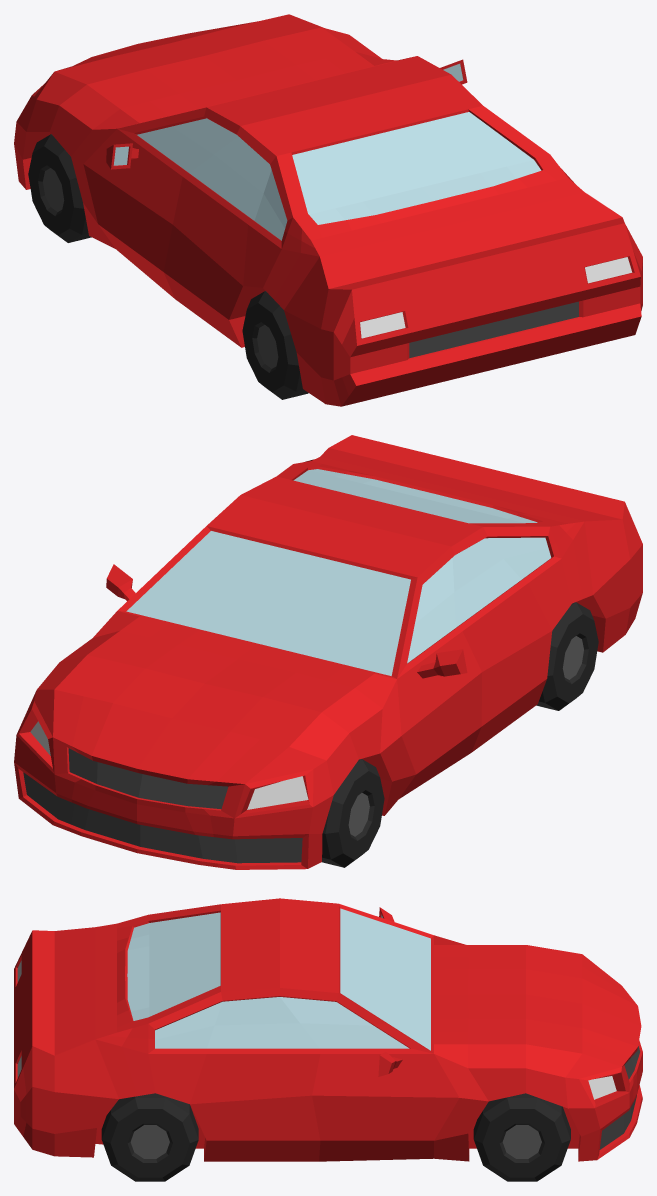
File: Red Car.glb
3 views of the same model, one above another, from view 1: azimuth 30°, elevation 25°; view 2: azimuth 150°, elevation 25°; view 3: azimuth 270°, elevation 25° (orthographic). The views are drawn at different scales.
Visible parts, largest first — view 1: Body_Cube.001, BackLeftWheel_Cylinder.001, FrontLeftWheel_Cylinder; view 2: Body_Cube.001, FrontLeftWheel_Cylinder, BackLeftWheel_Cylinder.001; view 3: Body_Cube.001, BackRightWheel_Cylinder.003, FrontRightWheel_Cylinder.002.
Boxes of the visible parts, x1,y1,x2,y2 form: Body_Cube.001: [14, 14, 642, 406]; BackLeftWheel_Cylinder.001: [242, 291, 308, 399]; FrontLeftWheel_Cylinder: [28, 134, 91, 242]; Body_Cube.001: [14, 435, 642, 869]; FrontLeftWheel_Cylinder: [322, 759, 384, 867]; BackLeftWheel_Cylinder.001: [536, 602, 598, 710]; Body_Cube.001: [14, 898, 642, 1161]; BackRightWheel_Cylinder.003: [101, 1093, 198, 1181]; FrontRightWheel_Cylinder.002: [473, 1093, 570, 1181].
Size of the model in its own units: 1.07 by 0.5792 by 1.87.
